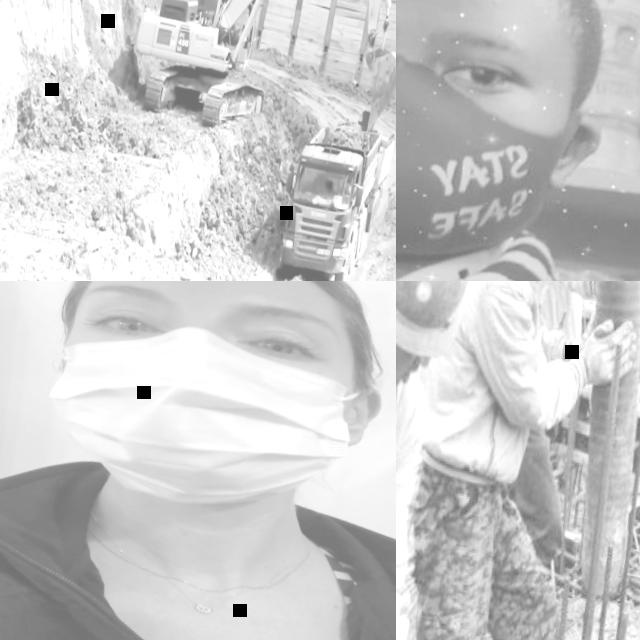Hardhat: (396, 281, 477, 360)
Mask: (34, 318, 360, 529), (396, 32, 579, 281)
NO-Hardhat: (74, 281, 371, 325)
NO-Mask: (396, 348, 407, 393)
NO-Safety Vest: (0, 465, 396, 640), (410, 281, 566, 487), (396, 222, 640, 281), (526, 281, 593, 347)
Person: (0, 281, 396, 640), (396, 281, 640, 640), (396, 0, 640, 281), (396, 281, 489, 640), (338, 176, 351, 196)
Safety Vest: (344, 182, 351, 195)
machinery: (122, 0, 396, 159), (267, 96, 396, 281), (188, 0, 236, 22)
